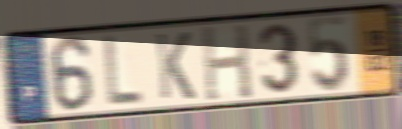3: (256, 21, 299, 97)
5: (306, 13, 351, 95)
6: (48, 34, 95, 115)
H: (199, 21, 255, 104)
K: (153, 30, 198, 102)
L: (102, 32, 145, 108)
